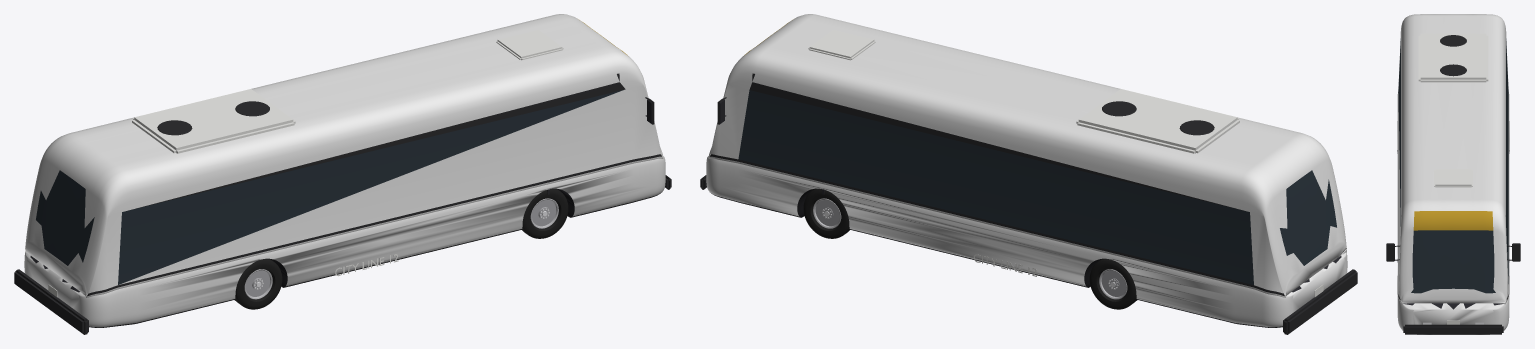
Rendered from veh_bus.glb.
3 views of the same model, side by side, from view 1: azimuth 30°, elevation 25°; view 2: azimuth 150°, elevation 25°; view 3: azimuth 270°, elevation 25° (orthographic). The views are drawn at different scales.
Visible parts, largest first — view 1: bus:body, bus:tyre1R, bus:tyre0R; view 2: bus:body, bus:tyre1L, bus:tyre0L; view 3: bus:body.
Part boxes in pixels (bbox=[...]): bus:body: bbox=[14, 14, 671, 334]; bus:tyre1R: bbox=[234, 258, 282, 309]; bus:tyre0R: bbox=[522, 188, 568, 238]; bus:body: bbox=[700, 14, 1357, 334]; bus:tyre1L: bbox=[1089, 258, 1137, 309]; bus:tyre0L: bbox=[803, 188, 849, 238]; bus:body: bbox=[1386, 14, 1520, 334].
Bounding box in the file's own units: 12.17 × 3.34 × 3.09.
